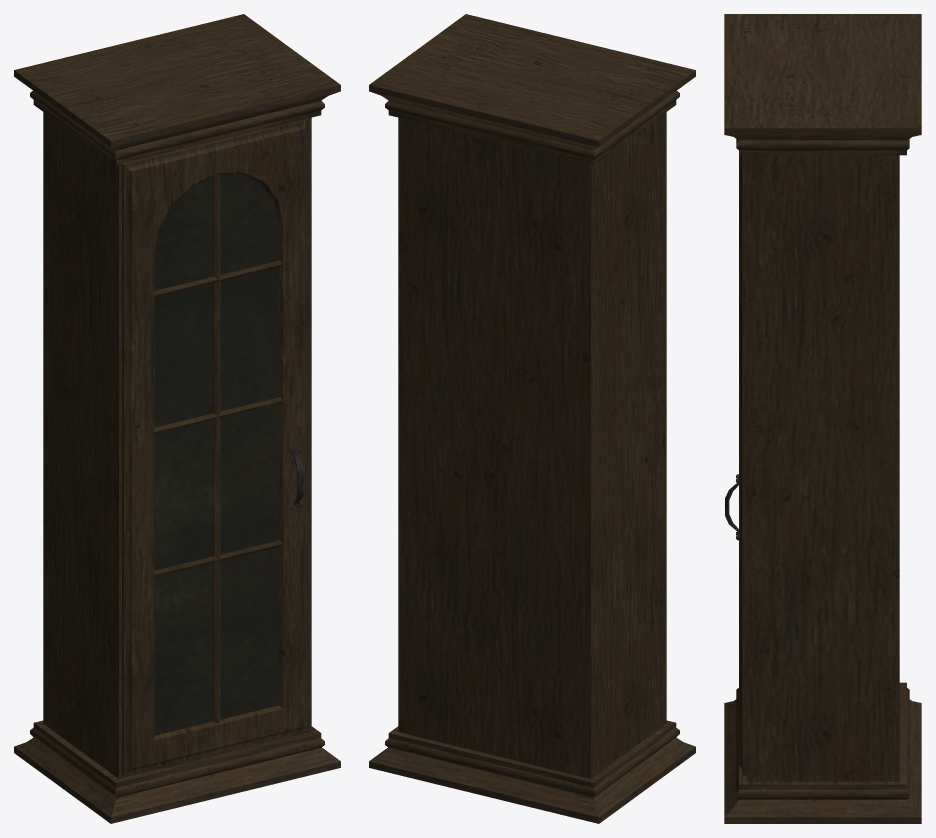
File: display_cabinet_mp_1_3.obj
3 renders of one model, left to right at view 1: azimuth 30°, elevation 25°; view 2: azimuth 150°, elevation 25°; view 3: azimuth 270°, elevation 25°, orthographic.
Visible parts, largest first — view 1: display_cabinet_mp_1_3_door, display_cabinet_mp_1_3; view 2: display_cabinet_mp_1_3; view 3: display_cabinet_mp_1_3, display_cabinet_mp_1_3_door.
Boxes of the visible parts, x1,y1,x2,y2 form: display_cabinet_mp_1_3_door: (122,118,309,775); display_cabinet_mp_1_3: (14,14,340,823); display_cabinet_mp_1_3: (369,14,695,823); display_cabinet_mp_1_3: (724,14,921,823); display_cabinet_mp_1_3_door: (725,155,746,775).
Bounding box in the file's own units: 0.74 × 2.1 × 0.54.
